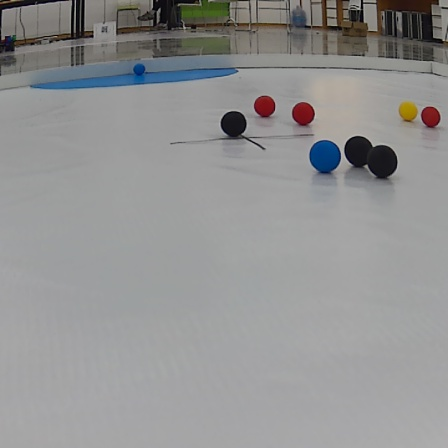black: (367, 144, 399, 180), (346, 135, 370, 171), (220, 109, 245, 137)
blue: (307, 139, 341, 175), (423, 105, 442, 129), (127, 63, 148, 76)
blue_base: (29, 67, 245, 92)
red: (290, 102, 317, 124), (253, 94, 275, 115)
yellow: (396, 100, 419, 124)
